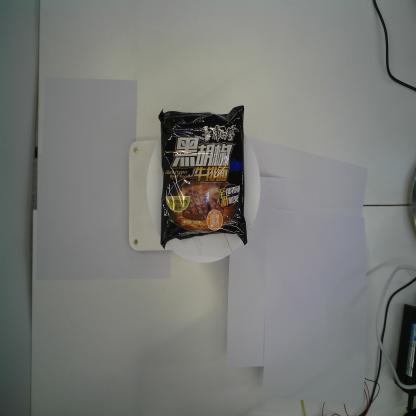Instant Noodles: (158, 104, 248, 250)
